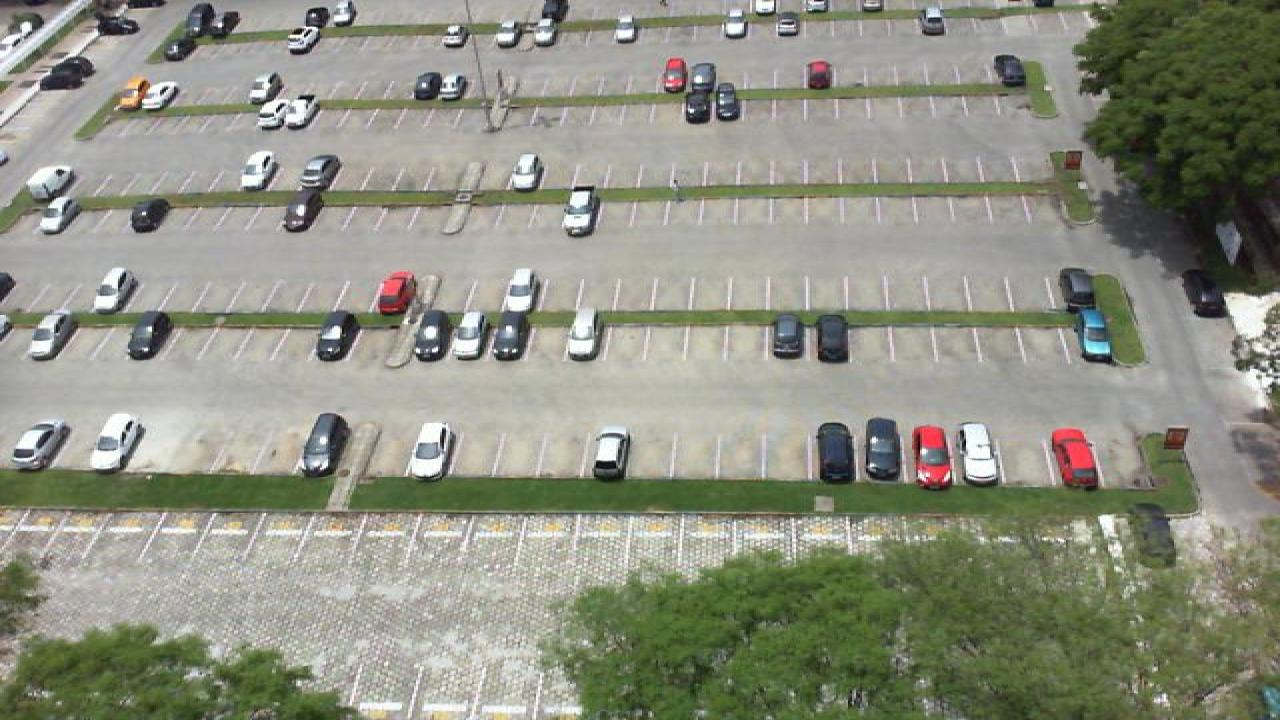Car: (88, 412, 144, 474), (1050, 426, 1104, 490), (300, 413, 350, 477), (958, 422, 1004, 487), (406, 422, 456, 481), (912, 424, 956, 491), (10, 422, 70, 471), (862, 417, 902, 481), (1076, 307, 1120, 365), (816, 420, 856, 483), (310, 309, 356, 361), (410, 310, 456, 362), (126, 309, 172, 360), (1184, 268, 1230, 318), (588, 425, 630, 479), (28, 312, 74, 361), (372, 270, 420, 316), (560, 185, 600, 238), (92, 266, 138, 312), (488, 312, 530, 362), (36, 55, 94, 91), (564, 308, 604, 360), (814, 314, 852, 364), (450, 312, 488, 361), (282, 189, 324, 233), (20, 164, 74, 198), (500, 268, 538, 315), (1056, 266, 1096, 310), (38, 195, 82, 235), (768, 314, 806, 359), (238, 150, 278, 191), (128, 197, 170, 234), (300, 154, 342, 191), (508, 153, 546, 191), (246, 72, 284, 106), (254, 96, 292, 130), (112, 77, 152, 109), (282, 95, 322, 127), (712, 81, 744, 121), (994, 53, 1028, 88), (682, 86, 712, 124), (142, 80, 178, 110), (660, 56, 688, 94), (286, 26, 324, 53), (186, 3, 218, 35), (412, 71, 446, 101), (162, 33, 198, 61), (804, 58, 834, 90), (494, 18, 526, 48), (610, 11, 640, 43), (326, 0, 358, 28), (688, 61, 716, 91), (530, 17, 558, 47), (918, 6, 946, 36), (718, 12, 746, 40), (438, 22, 468, 48), (446, 72, 472, 100), (540, 0, 570, 22), (776, 13, 802, 38)
